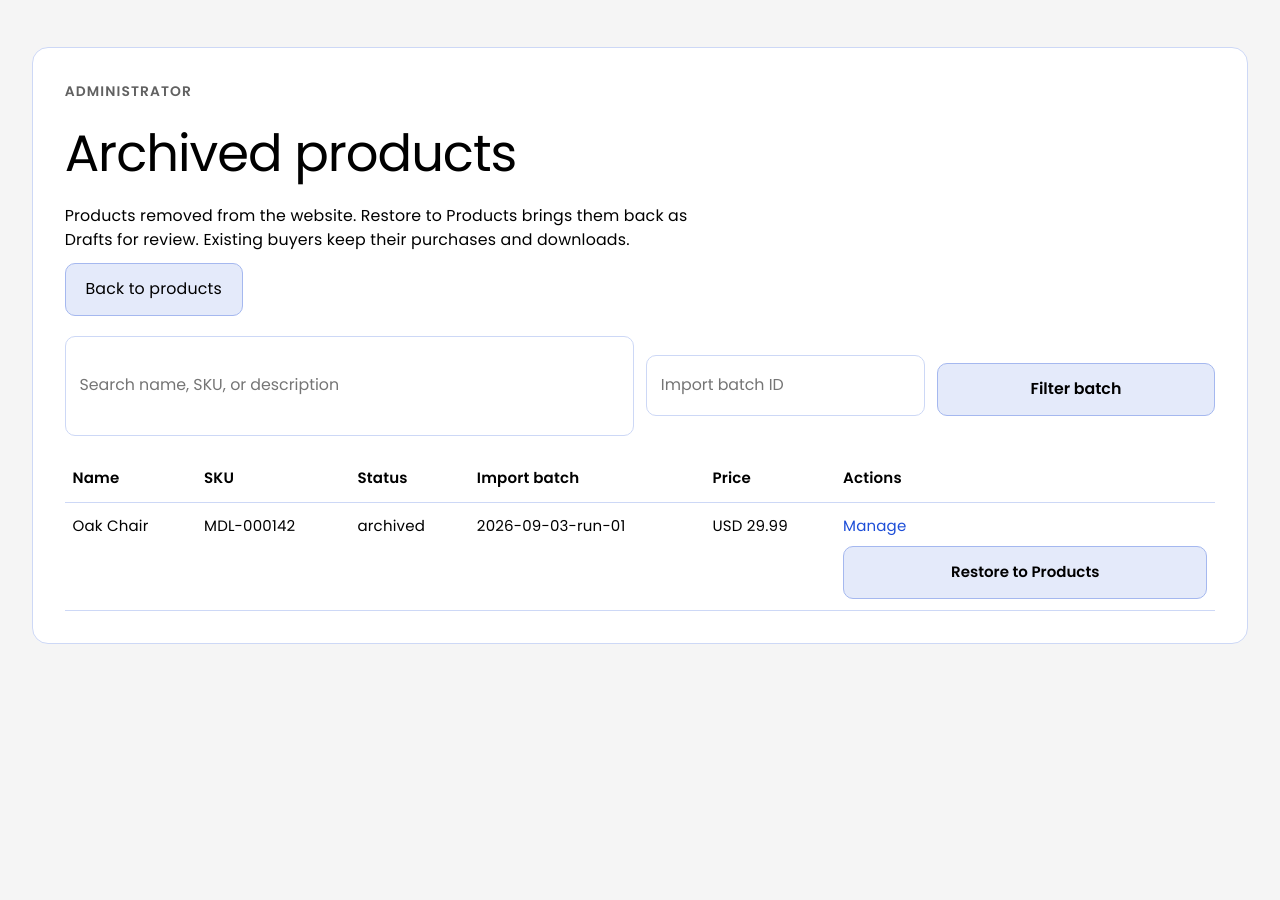
AdminProductsPage › restores an archived row into Products as a Draft
The width and height of the screenshot is (1280, 900).
Click the button "Restore to Products" at (1025, 572), box x1=843 y1=546 x2=1208 y2=598
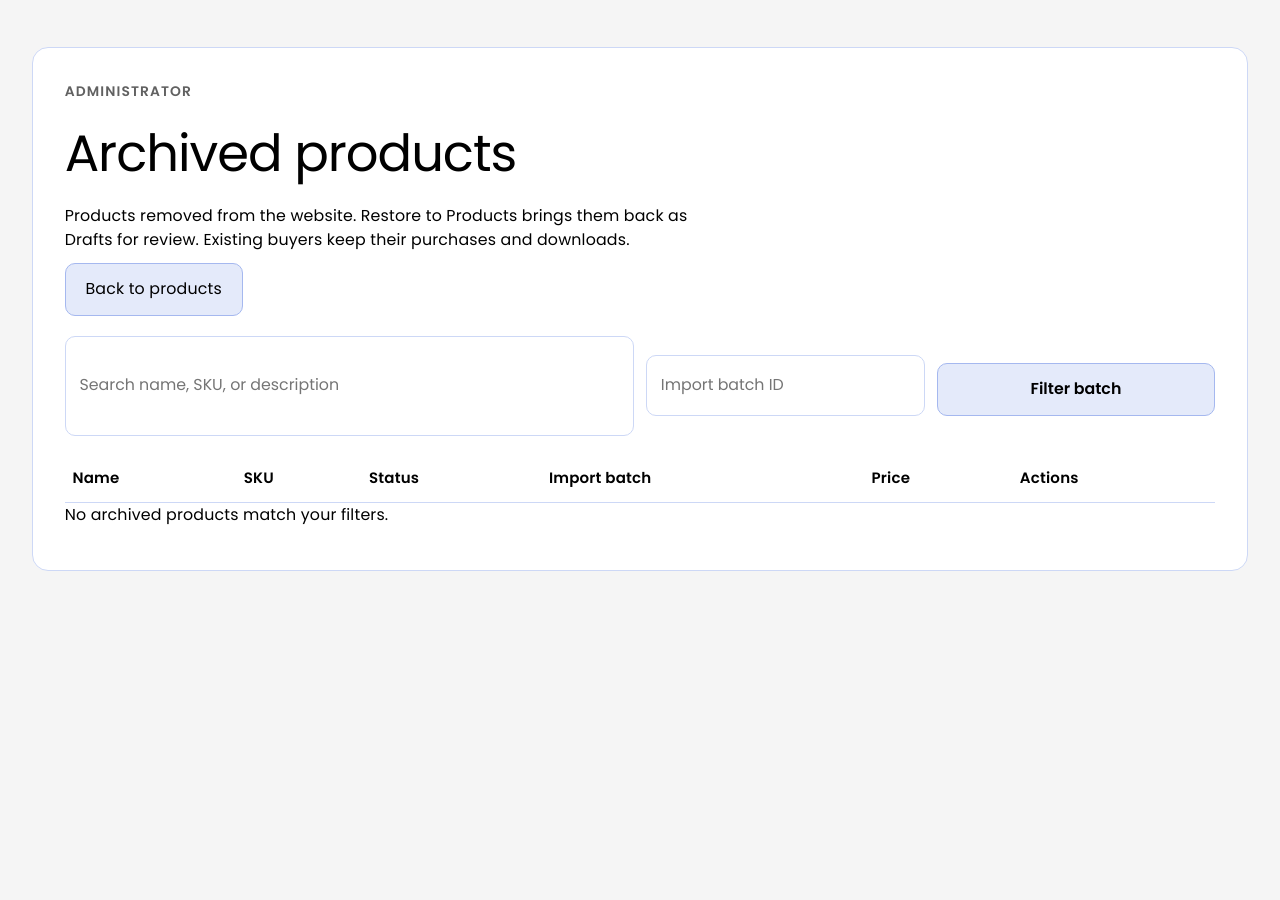
Now the text "Oak Chair" is gone
Click the link "Back to products" at (154, 290), box x1=65 y1=263 x2=243 y2=316
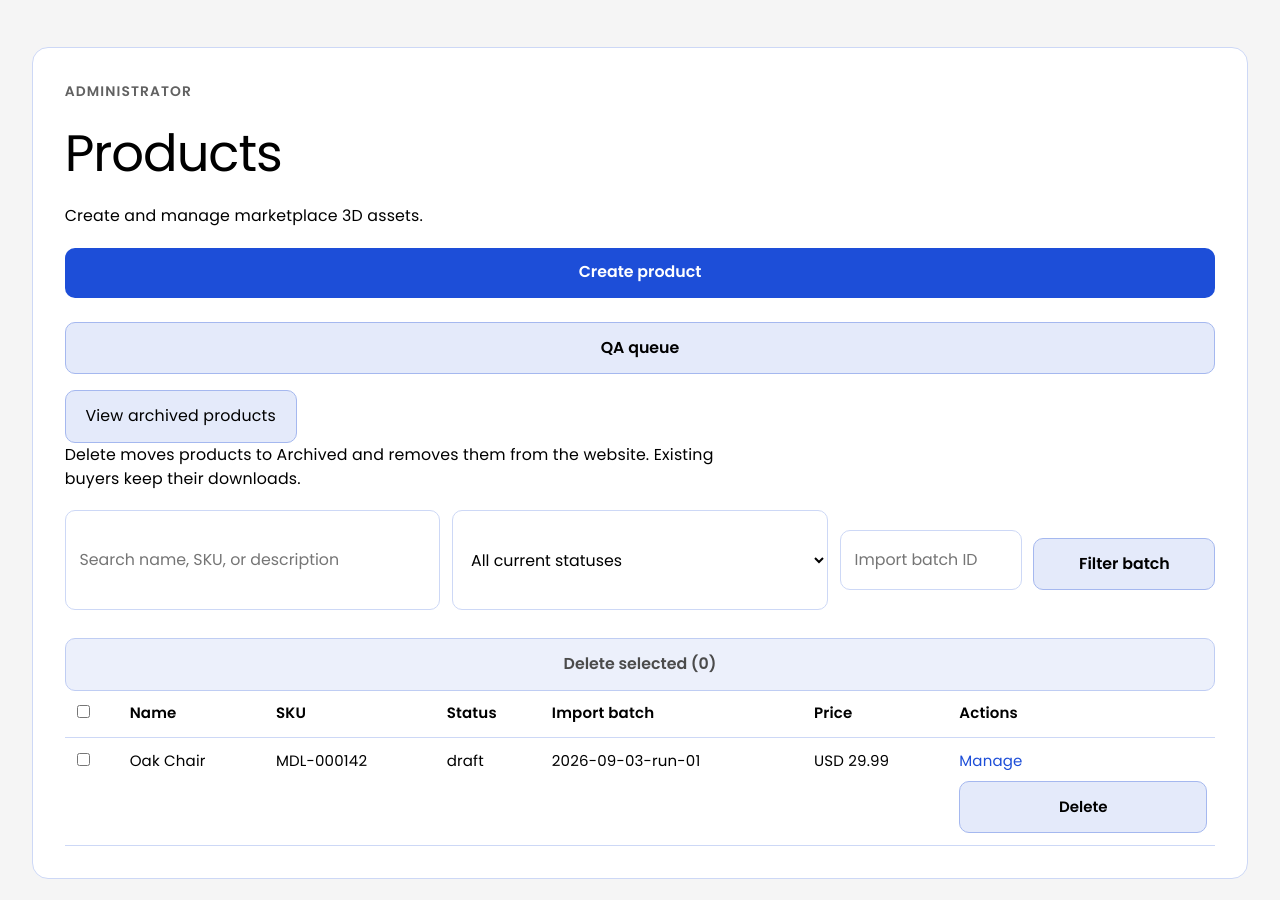
Expected: the text "draft" is shown, x1=439 y1=738 x2=544 y2=846
Now the text "Oak Chair" is shown, box x1=122 y1=738 x2=268 y2=846
Now the text "Restore to Products" is gone
